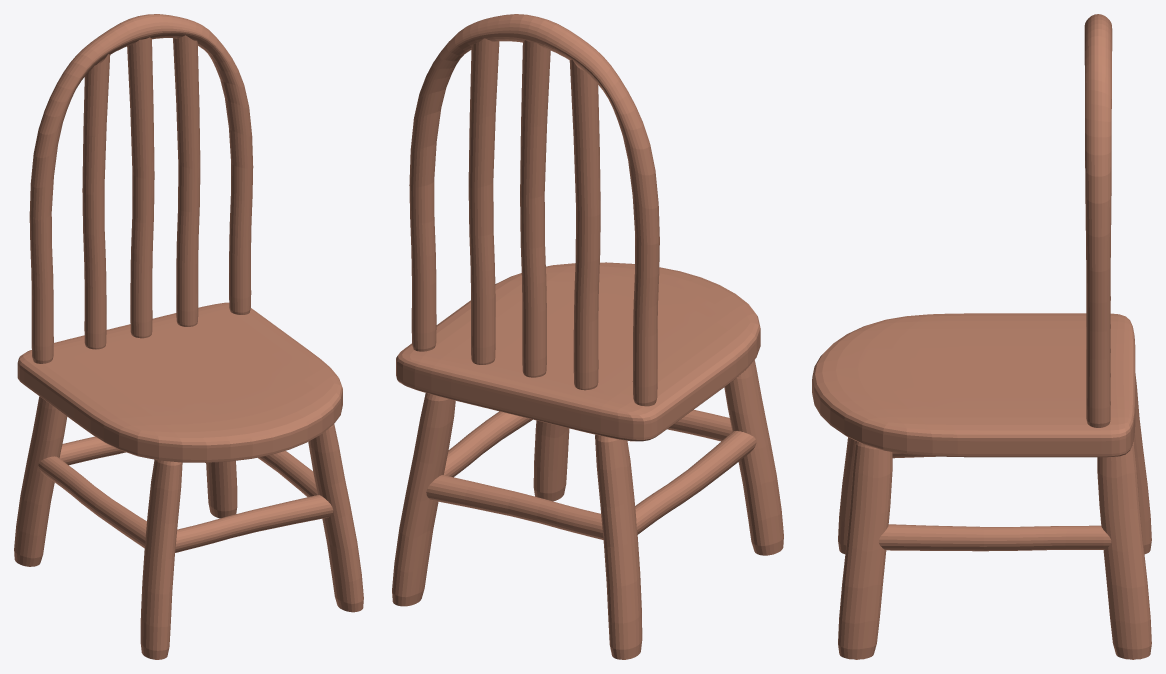
File: Dining_Chair.fbx
The picture shows the model from 3 angles, left to right: view 1: azimuth 30°, elevation 25°; view 2: azimuth 150°, elevation 25°; view 3: azimuth 270°, elevation 25°; orthographic projection. The views are drawn at different scales.
Parts seen in each view (by area): view 1: Rounded wooden Chair; view 2: Rounded wooden Chair; view 3: Rounded wooden Chair.
Part boxes in pixels (<box>): Rounded wooden Chair: <box>14,14,363,659</box>; Rounded wooden Chair: <box>392,14,783,659</box>; Rounded wooden Chair: <box>812,14,1151,659</box>.
Size of the model in its own units: 19.98 by 43.99 by 23.36.
